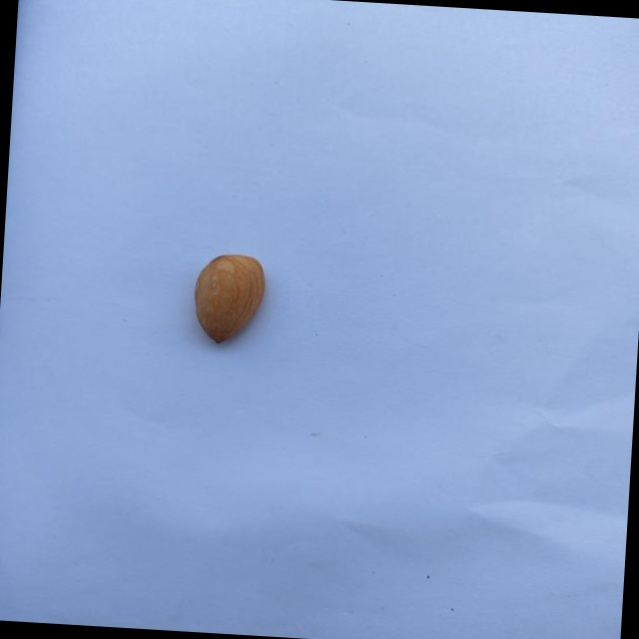grade2: (188, 249, 274, 349)
